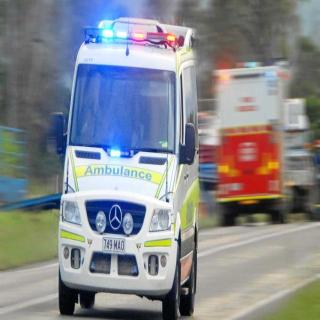Ambulance: (45, 15, 208, 315)
